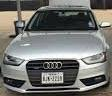Cars: (2, 6, 108, 92)
